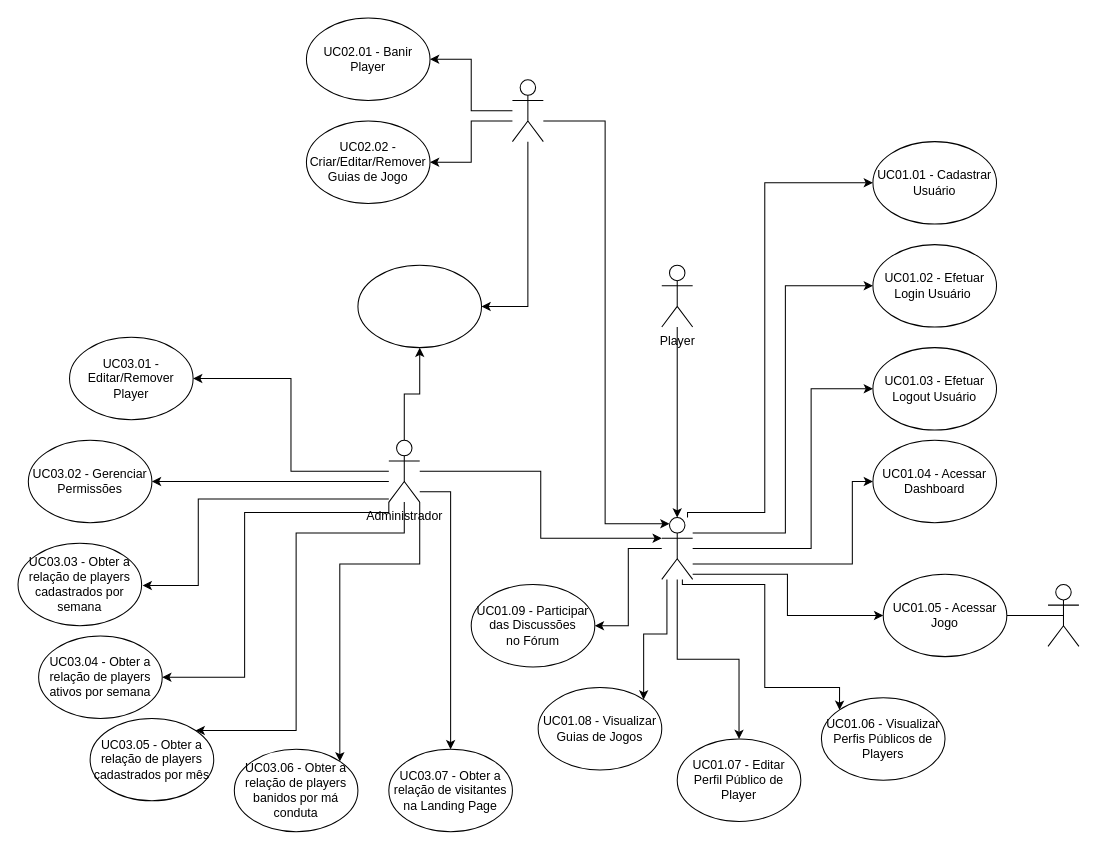
Some shapes in this 1097 by 850 pixel diagram are drawn without their labels. Here are the shapes that lost their labels. From the top down, the centre of each, then its label:
At (527,110): "Moderador".
At (419,306): "UC02.03 - Cadastrar Player".
At (677,548): "Usuário".
At (1063,614): "FAD".
